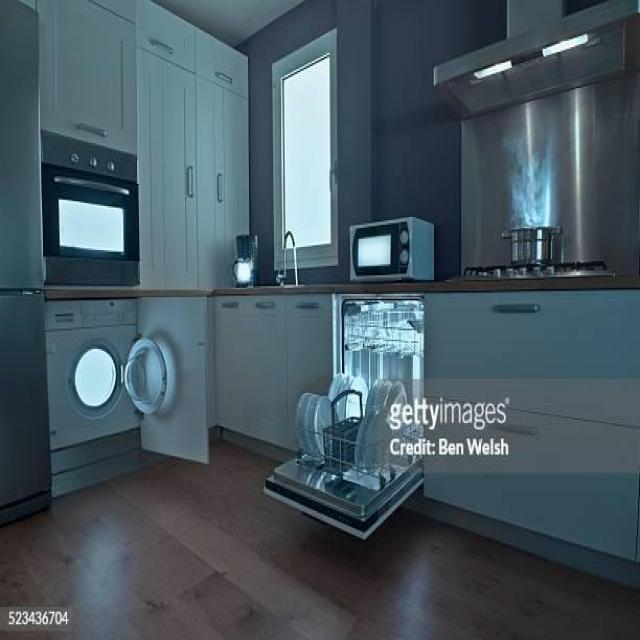dishwasher: (261, 297, 433, 544)
